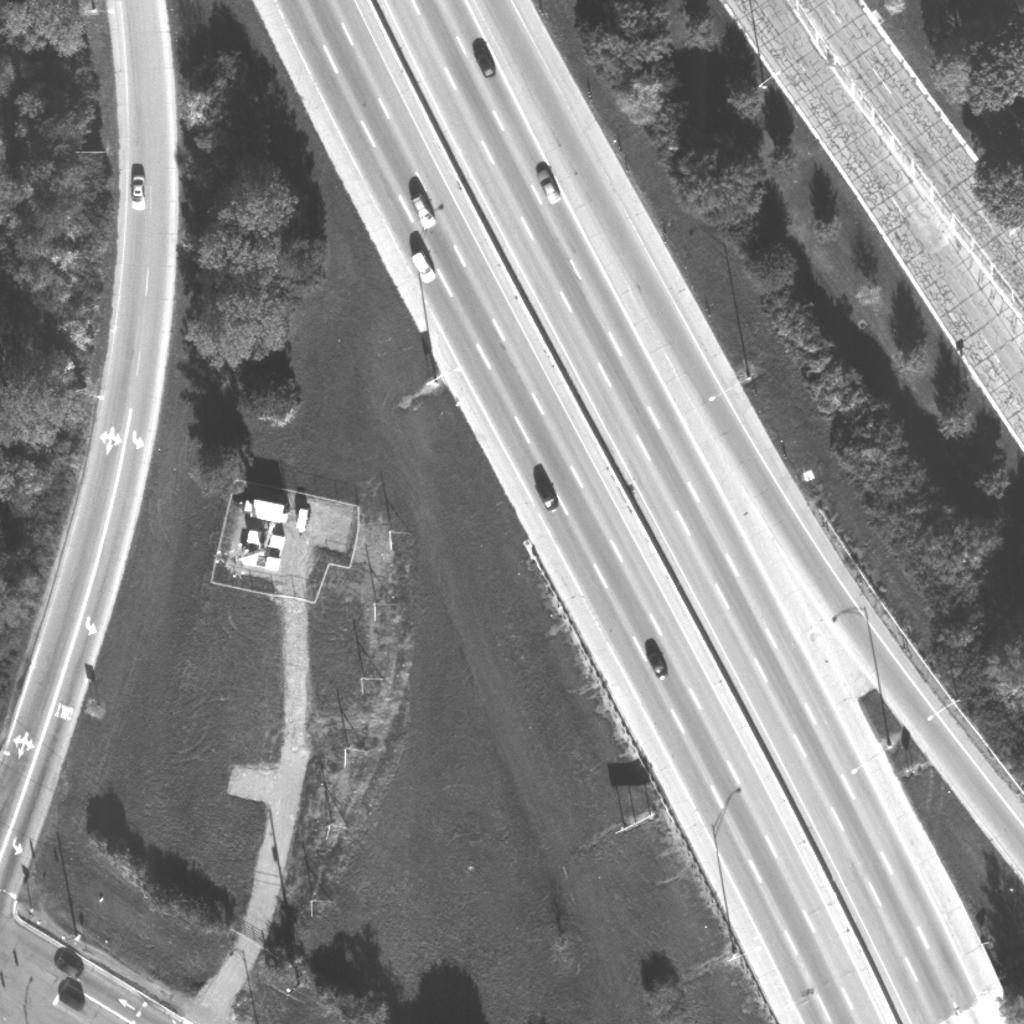car: (465, 40, 499, 74), (530, 168, 564, 202), (120, 174, 154, 208), (402, 190, 436, 224), (403, 246, 437, 280), (527, 473, 561, 507), (638, 646, 672, 680), (50, 950, 84, 984), (54, 982, 88, 1016)
